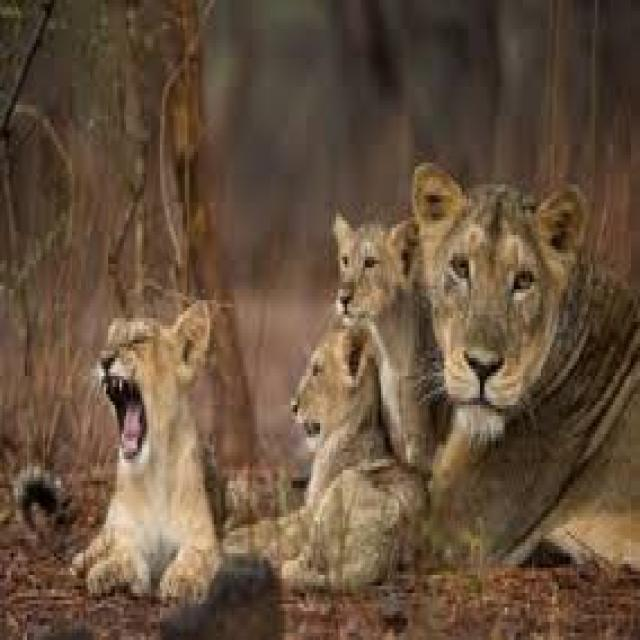Lion: (414, 158, 638, 560), (228, 344, 423, 594), (69, 300, 223, 603), (333, 223, 449, 455)
